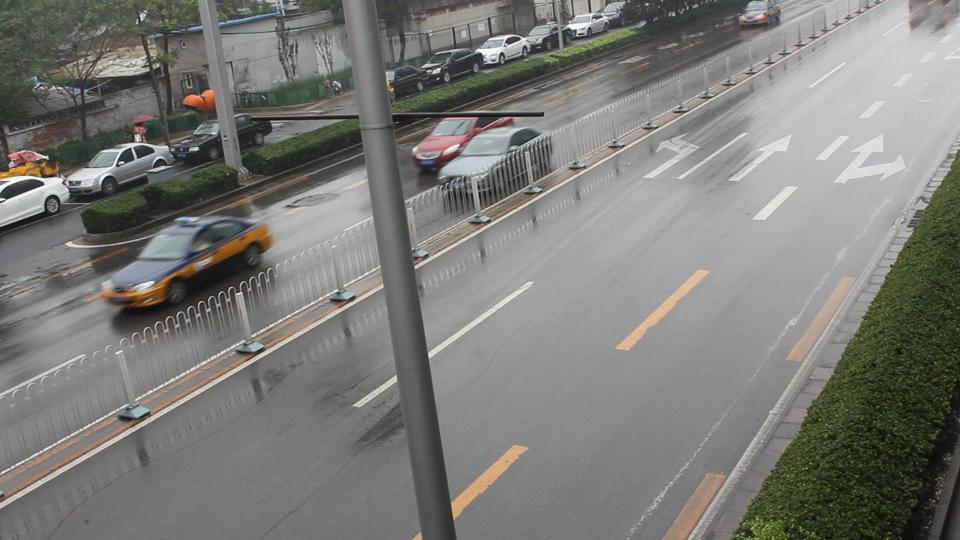Car: (97, 214, 274, 312), (434, 125, 558, 198), (408, 107, 519, 166)
